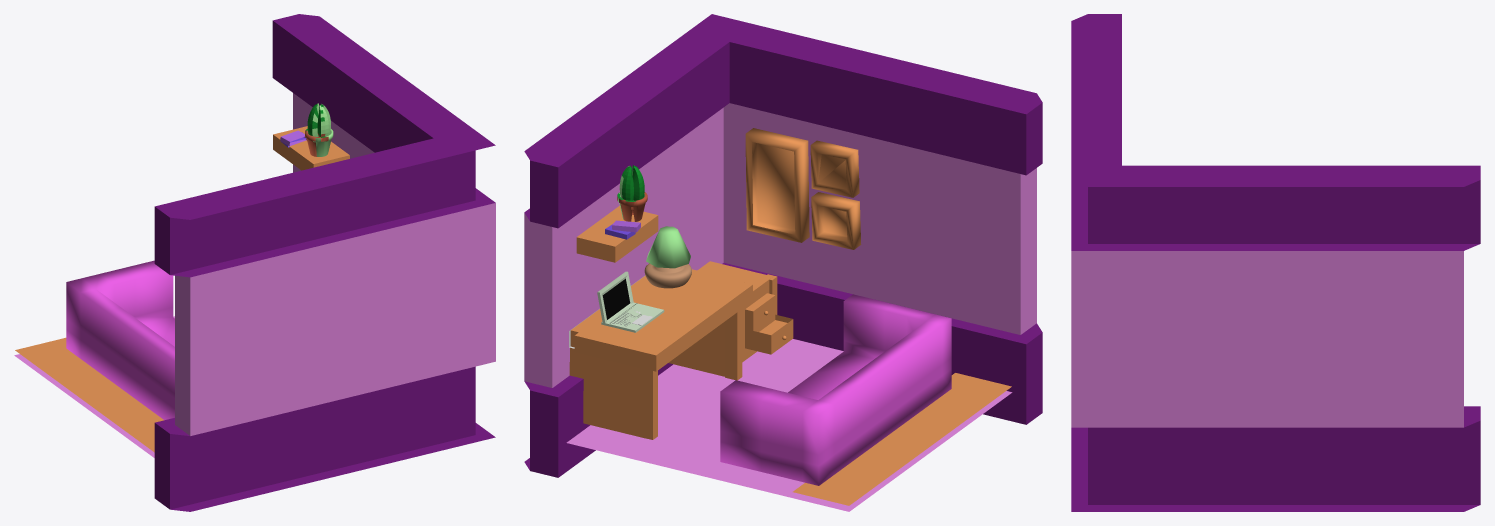
The model's file is isometic.glb.
3 renders of one model, left to right at view 1: azimuth 30°, elevation 25°; view 2: azimuth 150°, elevation 25°; view 3: azimuth 270°, elevation 25°, orthographic. The views are drawn at different scales.
Parts seen in each view (by area): view 1: Cube, Plane.010, Plane.001, Cube.002, Plane, Sphere; view 2: Cube, Plane.010, Plane, planee.003, Cube.001, Plane.001, planee.001, Cube.009, Cube.003, Cube.002, planee.002, Sphere (+6 smaller); view 3: Cube.
Boxes of the visible parts, bbox=[...] form: Cube: bbox=[154, 14, 495, 511]; Plane.010: bbox=[66, 260, 174, 420]; Plane.001: bbox=[15, 337, 163, 452]; Cube.002: bbox=[273, 126, 349, 170]; Plane: bbox=[14, 316, 174, 457]; Sphere: bbox=[307, 103, 333, 156]; Cube: bbox=[524, 14, 1042, 477]; Plane.010: bbox=[720, 294, 951, 485]; Plane: bbox=[566, 339, 1012, 511]; planee.003: bbox=[570, 269, 752, 371]; Cube.001: bbox=[745, 128, 861, 249]; Plane.001: bbox=[793, 373, 1011, 505]; planee.001: bbox=[569, 347, 644, 438]; Cube.009: bbox=[752, 142, 795, 234]; Cube.003: bbox=[697, 261, 793, 362]; Cube.002: bbox=[576, 205, 658, 262]; planee.002: bbox=[668, 321, 724, 376]; Sphere: bbox=[618, 166, 690, 268]; Cube: bbox=[1071, 14, 1480, 511].
Size of what is drawn, in the model's own units: 2.28 by 2 by 2.28.
